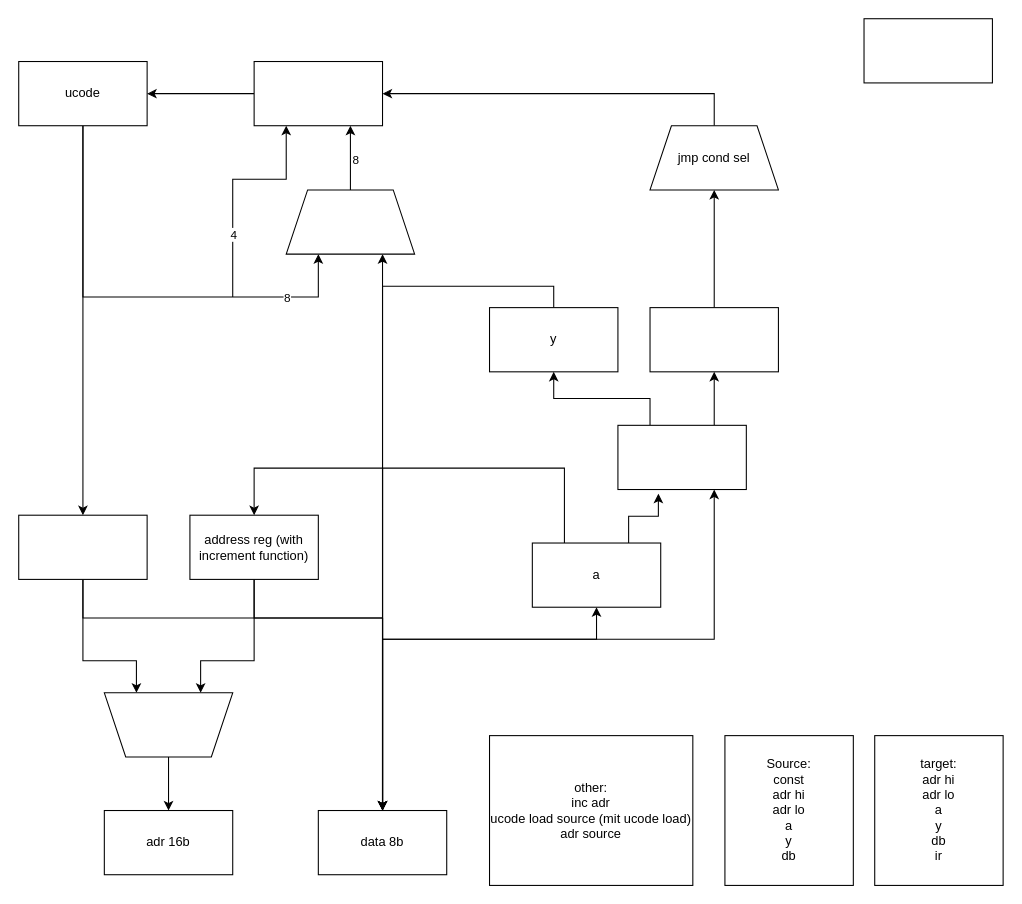
This 1022x904 diagram has some shape labels left out. Here are the shapes that lost their labels. From the top down, the centre of each, then its label:
[927,50]: ucode und status?
[318,93]: ucode adr 12 bit
[713,339]: status
[681,457]: alu
[82,546]: constant from ucode rom 4b
